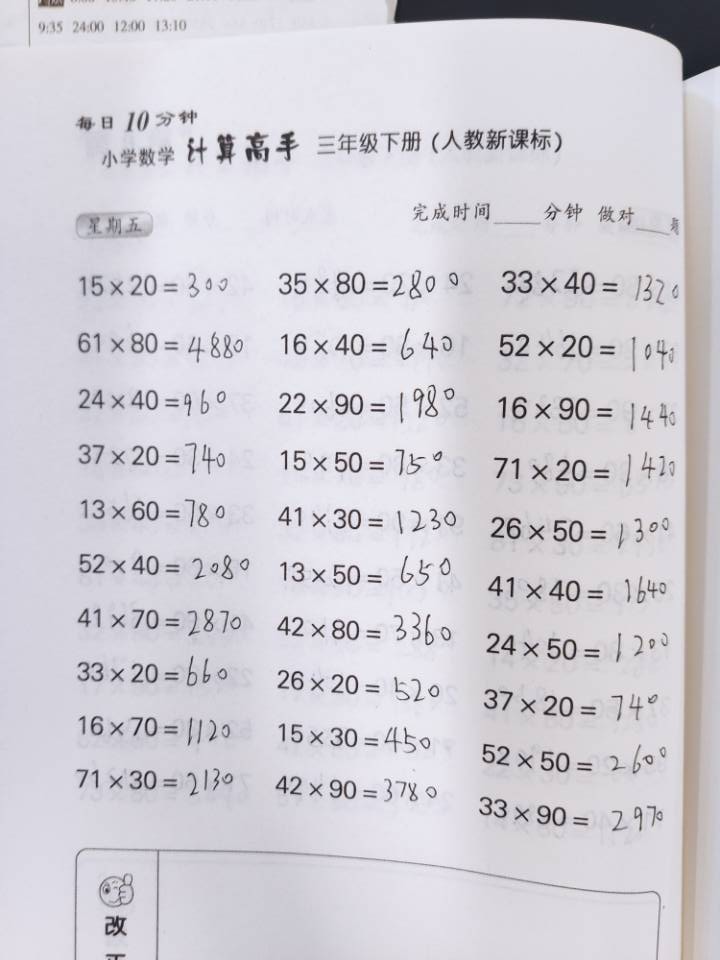equation: (280, 336, 327, 611), (195, 329, 240, 601), (452, 329, 495, 612), (412, 333, 454, 600), (328, 351, 370, 609), (564, 623, 604, 888), (595, 55, 632, 340), (243, 39, 281, 315), (291, 35, 327, 315), (335, 41, 371, 320), (463, 57, 502, 313), (243, 335, 279, 611), (196, 32, 232, 305), (239, 608, 275, 872), (447, 619, 482, 889), (406, 599, 440, 873), (485, 637, 522, 880), (512, 60, 545, 331), (376, 331, 409, 601), (284, 620, 318, 879), (577, 360, 610, 623), (381, 51, 413, 320), (526, 628, 559, 881), (556, 52, 586, 327), (500, 341, 531, 604), (368, 640, 400, 893), (328, 637, 359, 889), (536, 359, 566, 615), (428, 67, 458, 316), (200, 636, 231, 868)
